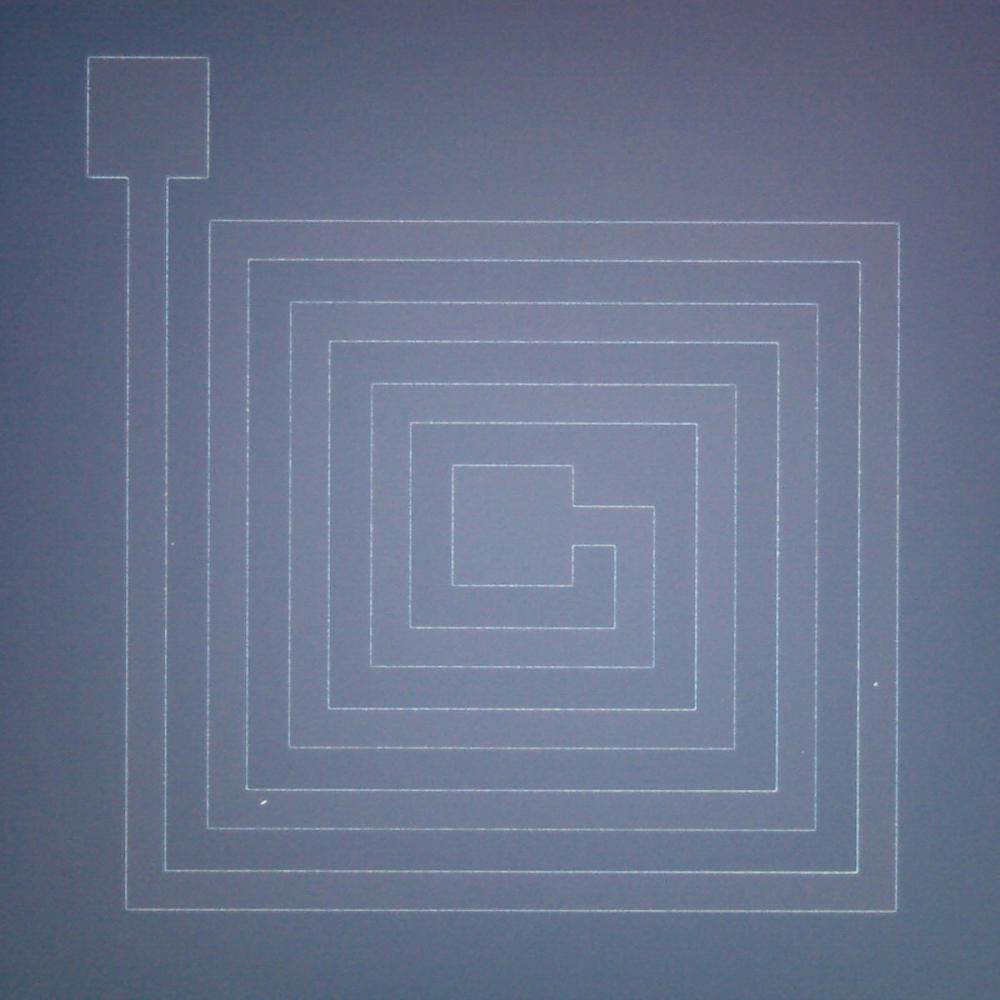dot: (260, 799, 267, 805), (873, 681, 879, 687), (170, 542, 175, 546)
